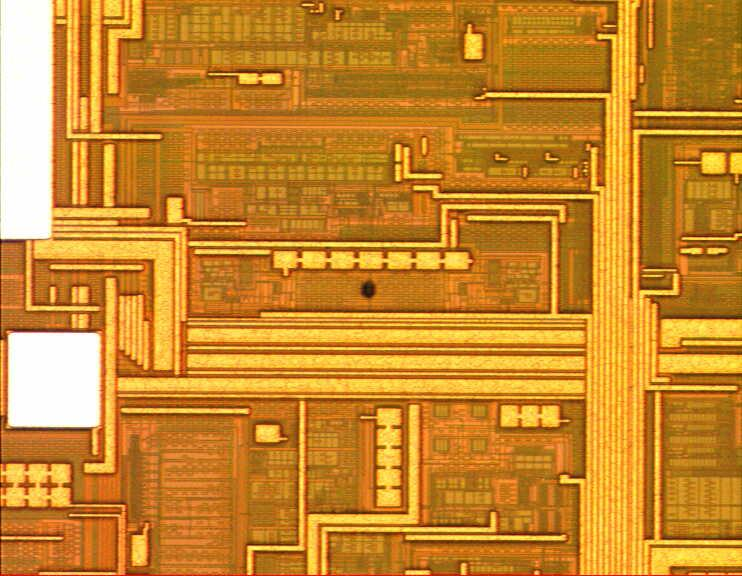PIQ PARTICLE: (351, 275, 383, 307)
